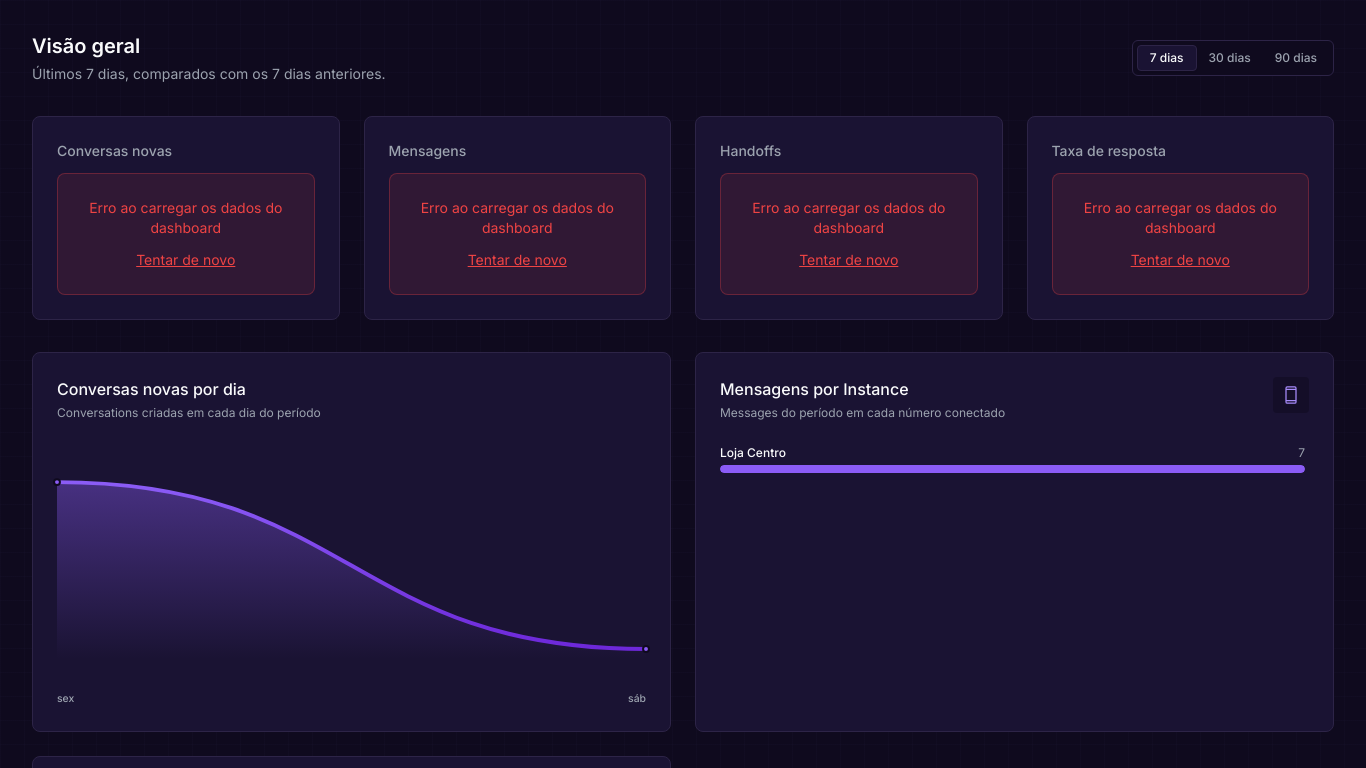
Test case: DashboardPage › erro na visão geral aparece nos quatro cartões e "Tentar de novo" refaz só essa query
The width and height of the screenshot is (1366, 768).
expect the number of messages is 4: met, box [57,173,314,295]; [388,173,646,295]; [720,173,978,295]; [1052,173,1309,295]
Click the 1st button "Tentar de novo" at (186, 260), box [136,250,235,270]
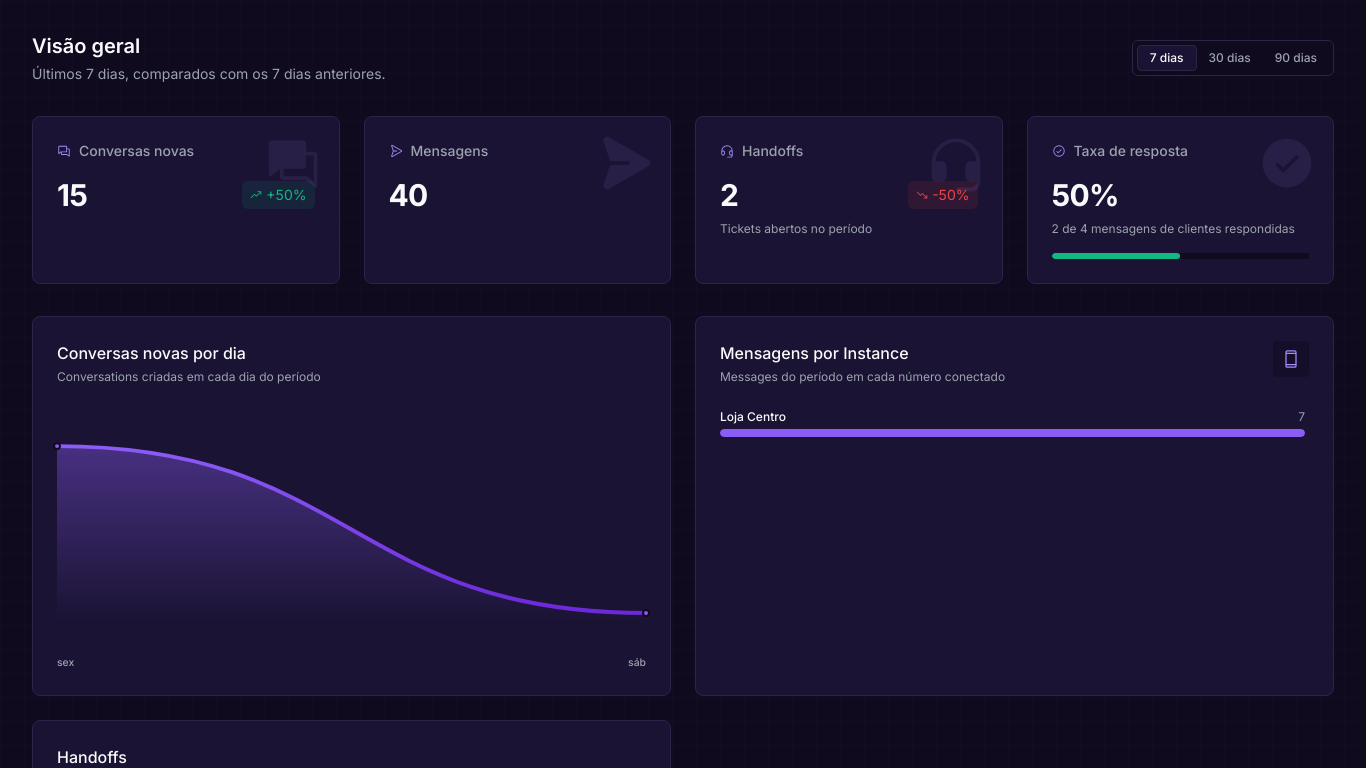
expect the text "15" is shown: met, box [57,177,87,213]
